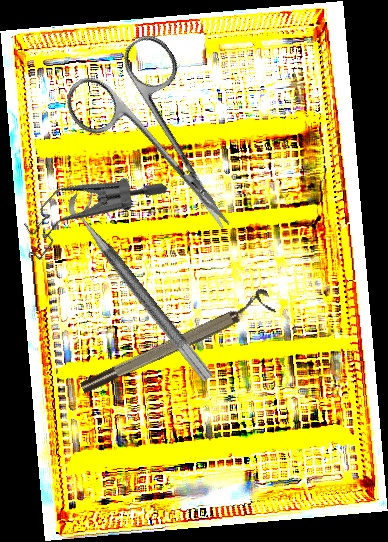Fixation Ring: (62, 183, 229, 384), (74, 286, 277, 398)
Iris Scissors: (56, 27, 272, 264)
Speculum: (8, 131, 170, 298)
